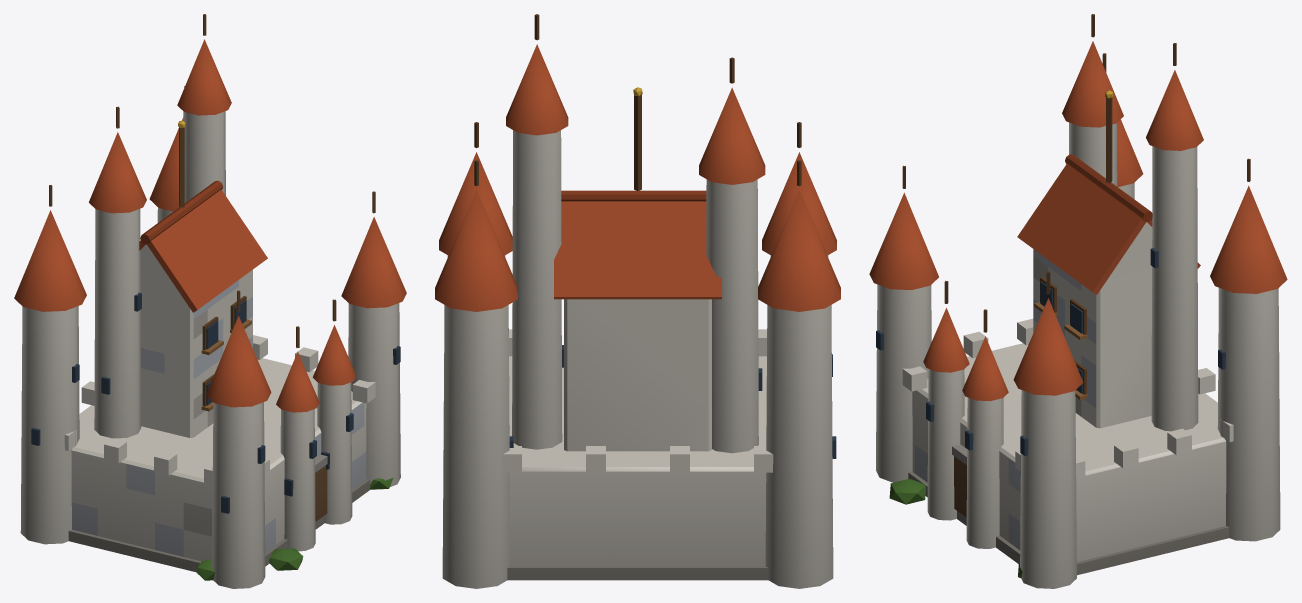
File: building_0.glb
The picture shows the model from 3 angles, left to right: view 1: azimuth 30°, elevation 25°; view 2: azimuth 150°, elevation 25°; view 3: azimuth 270°, elevation 25°; orthographic projection. The views are drawn at different scales.
Parts seen in each view (by area): view 1: building_0; view 2: building_0; view 3: building_0.
Part boxes in pixels (x1,y1,x2,y2): building_0: (14,14,406,588); building_0: (435,14,840,588); building_0: (869,14,1287,588).
Size of the model in its own units: 1.46 by 1.77 by 1.39.
